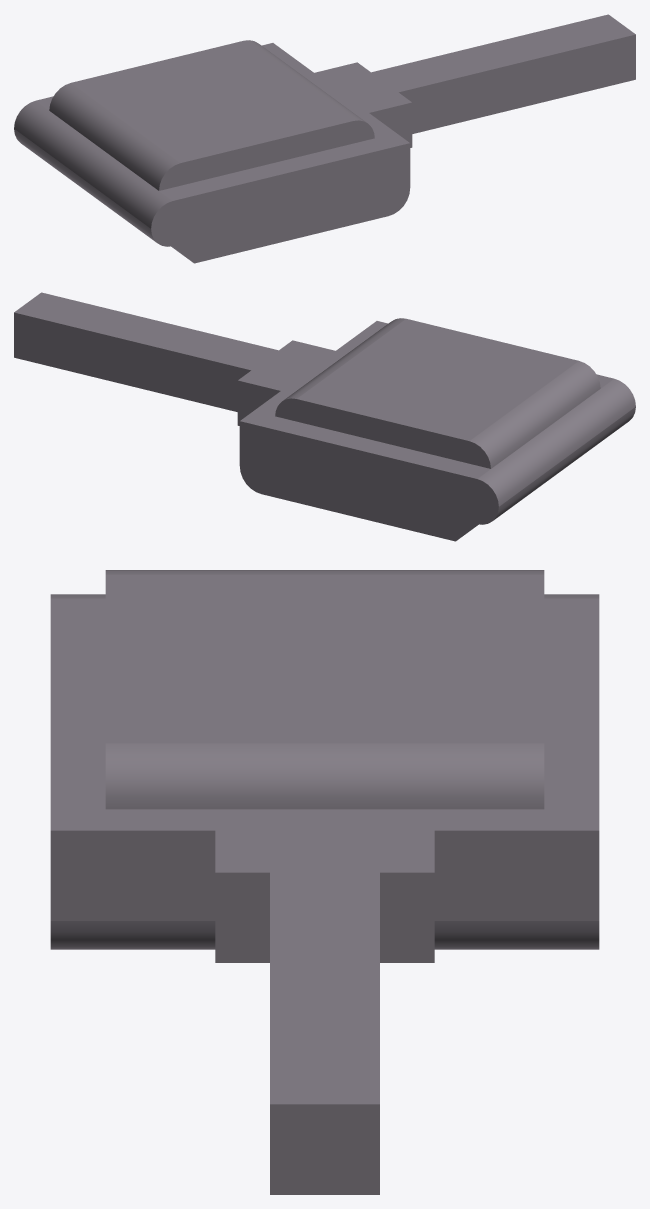
The model's file is Tank_turret.fbx.
3 views of the same model, one above another, from view 1: azimuth 30°, elevation 25°; view 2: azimuth 150°, elevation 25°; view 3: azimuth 270°, elevation 25° (orthographic). The views are drawn at different scales.
Parts seen in each view (by area): view 1: generated; view 2: generated; view 3: generated.
Boxes of the visible parts, box(x1,y1,x2,y2) form: generated: box(14, 14, 635, 263); generated: box(14, 292, 635, 541); generated: box(50, 570, 599, 1194).
Size of the model in its own units: 250 by 40 by 110.
